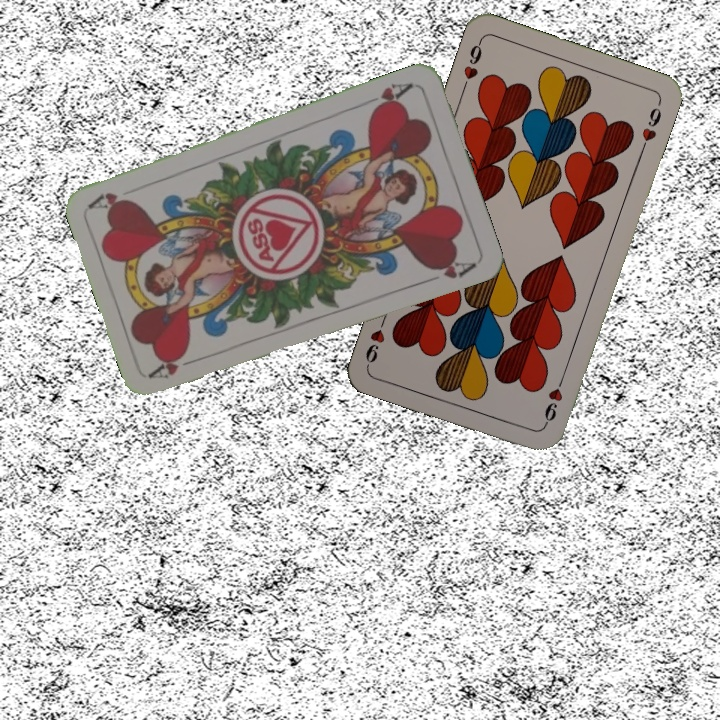H9: (539, 372, 567, 429), (458, 36, 485, 93)
HA: (360, 78, 416, 115), (147, 347, 204, 382)
